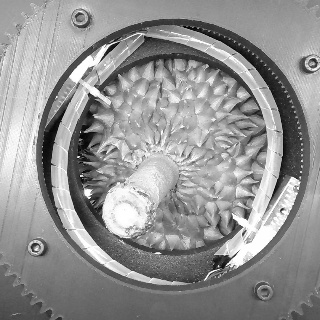base: (135, 145, 186, 201)
end: (101, 183, 148, 239)
